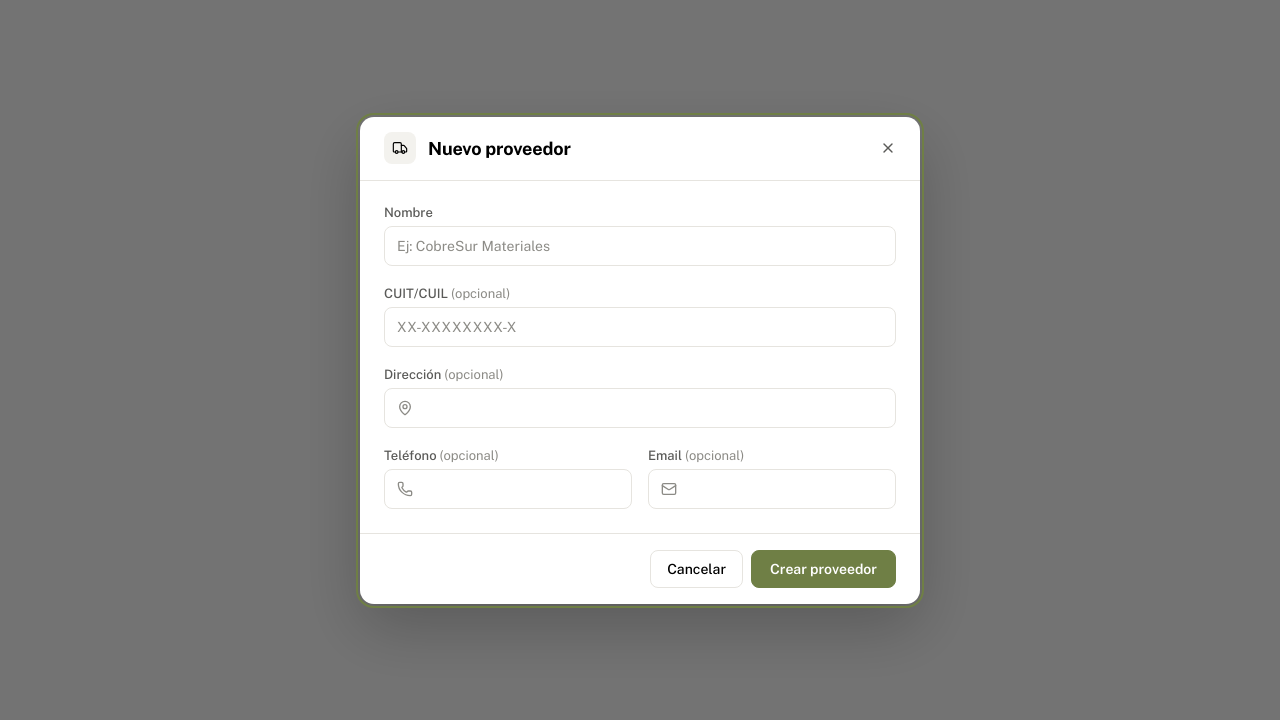
Test: proveedor y producto: errores en cada campo › proveedor sin nombre no se guarda y dice qué falta
Click the button "Crear proveedor" at {"x": 824, "y": 568}, box [751,550,896,588]
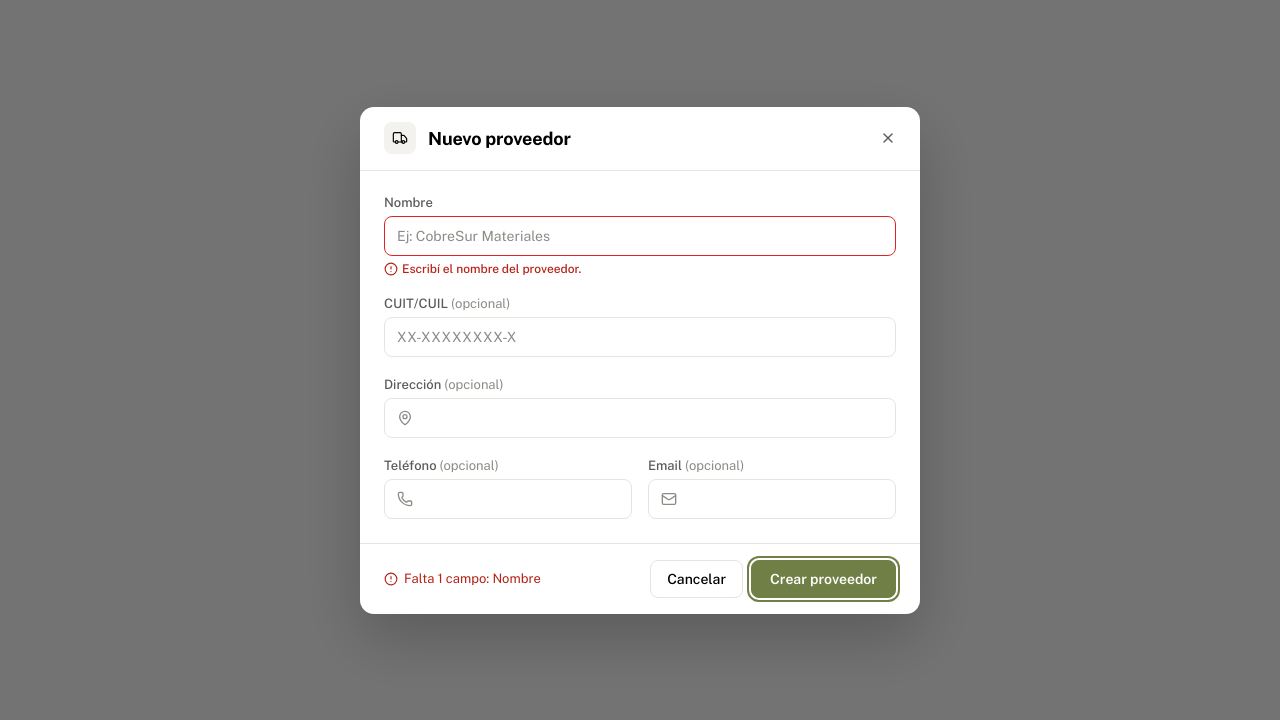
Now the text "Escribí el nombre del proveedor." is shown, box [384,262,581,276]
Now the text "Falta 1 campo: Nombre" is shown, box [384,571,541,586]
